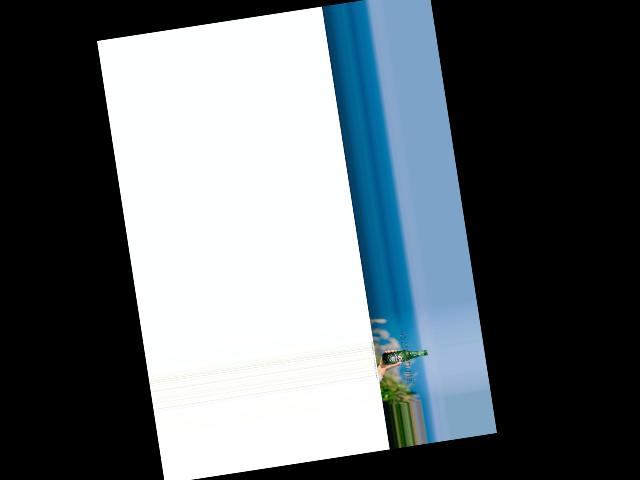beer: (382, 346, 428, 365)
